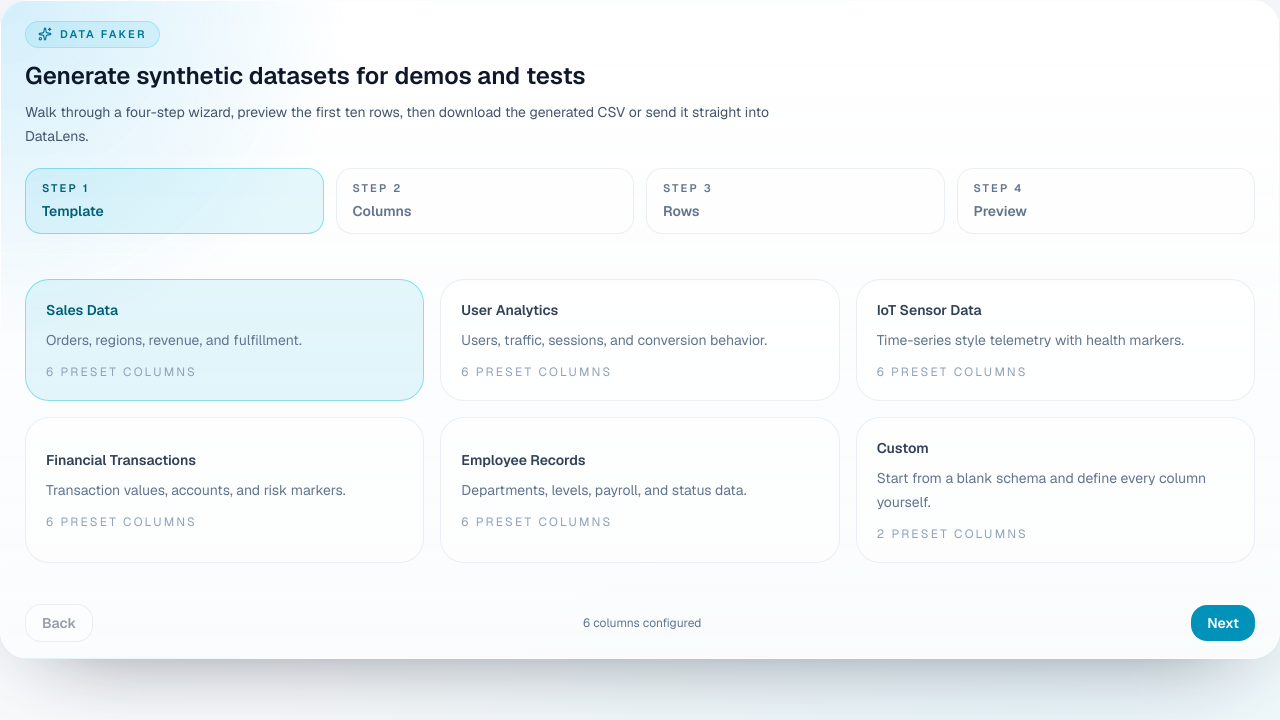
Test: DataFaker › walks through the wizard and renders preview rows for the selected template
Click the button "User Analytics" at x=640, y=340, box [440, 279, 840, 401]
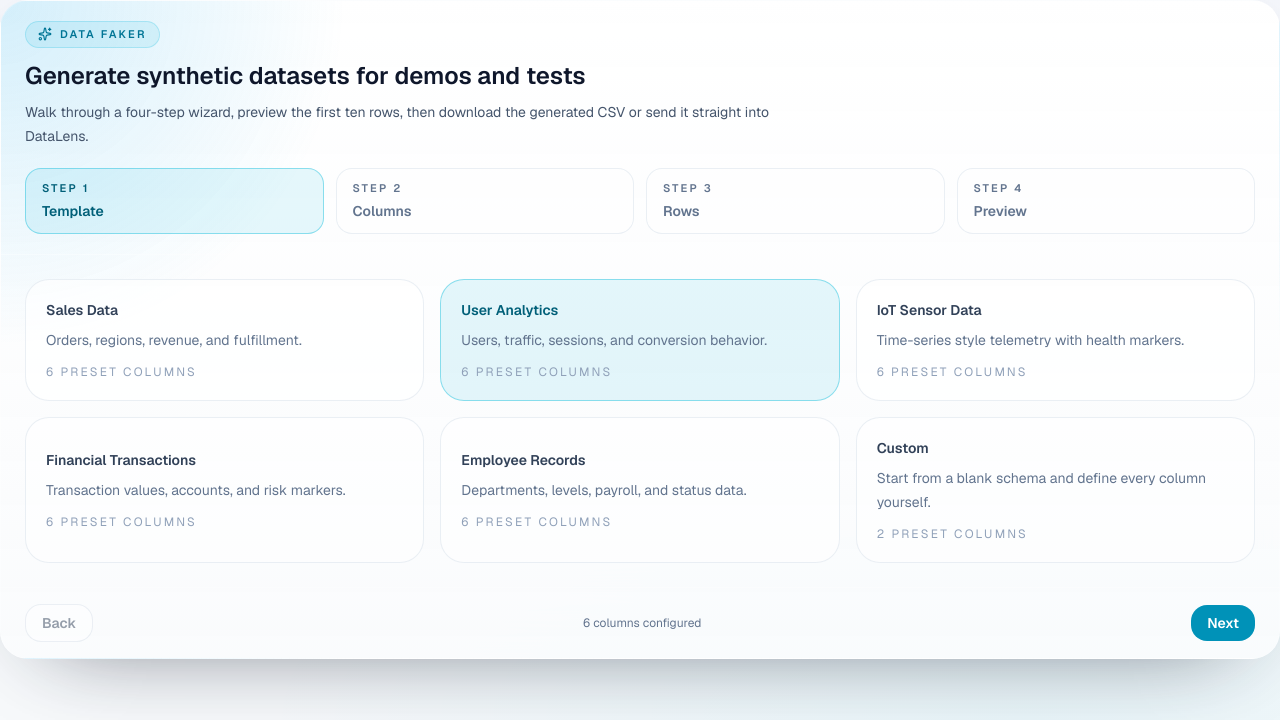
Click the button "Next" at x=1223, y=623, box [1191, 605, 1255, 641]
(page scrolled)
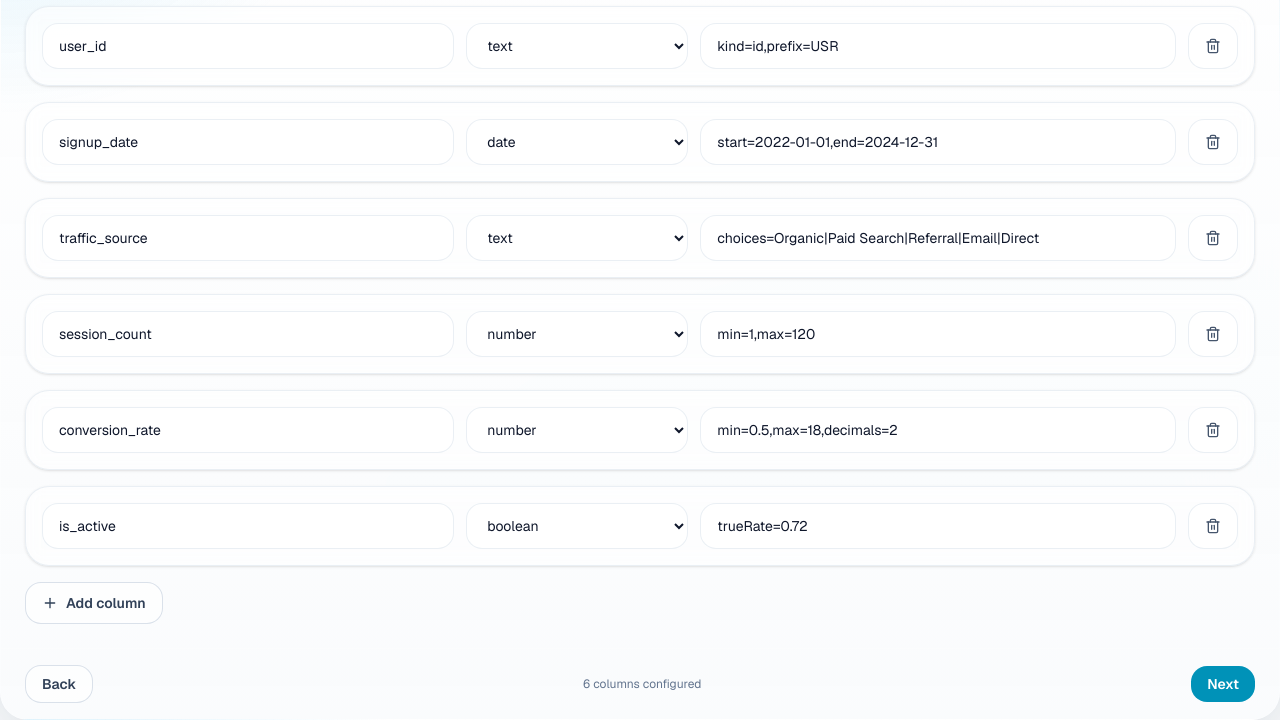
Click the button "Next" at x=1223, y=684, box [1191, 666, 1255, 702]
(page scrolled)
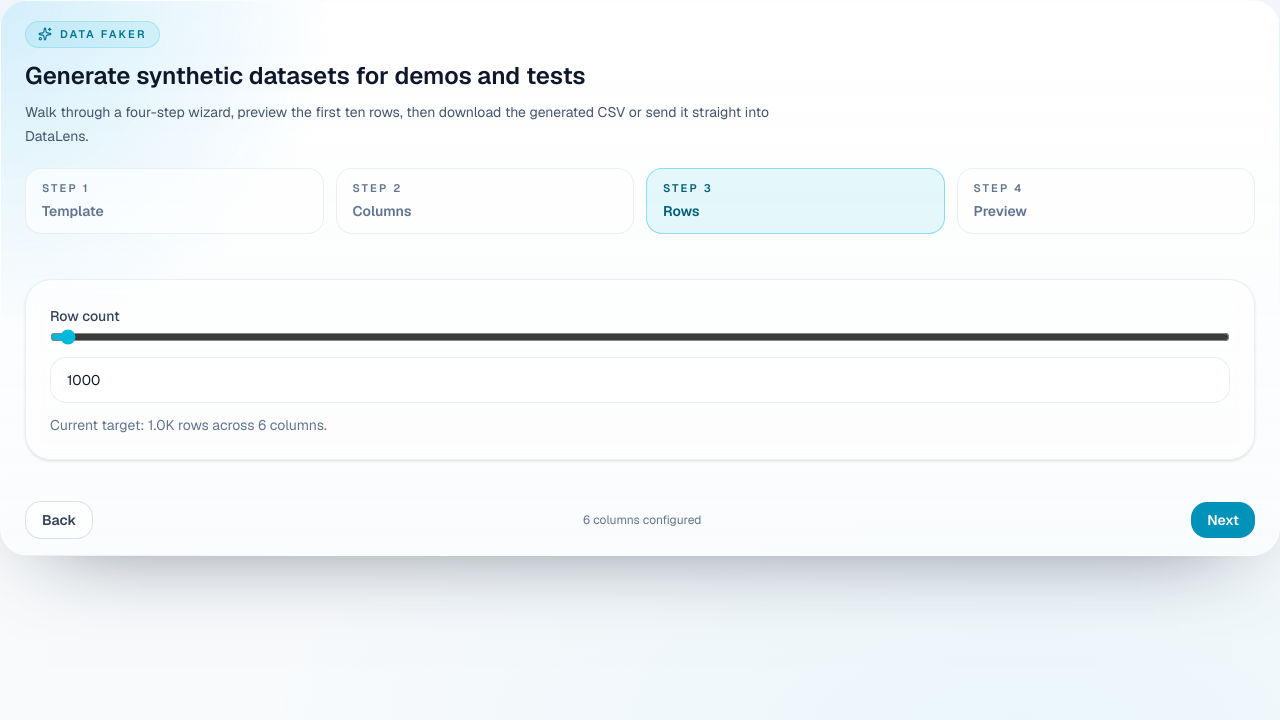
Click the button "Next" at x=1223, y=520, box [1191, 502, 1255, 538]
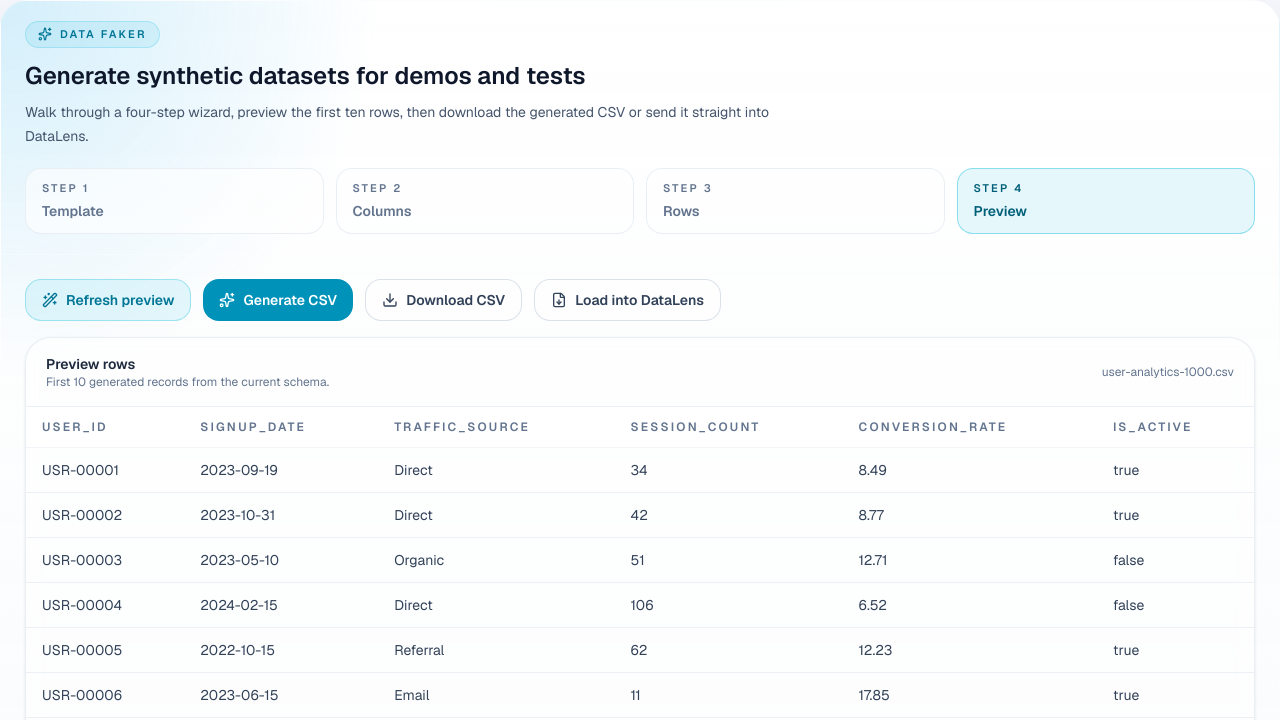
Expected: the text "Preview rows" is shown, [46, 355, 135, 373]
Expected: the column heading "user_id" is shown, [26, 407, 184, 448]
Expected: the column heading "traffic_source" is shown, [378, 407, 615, 448]
